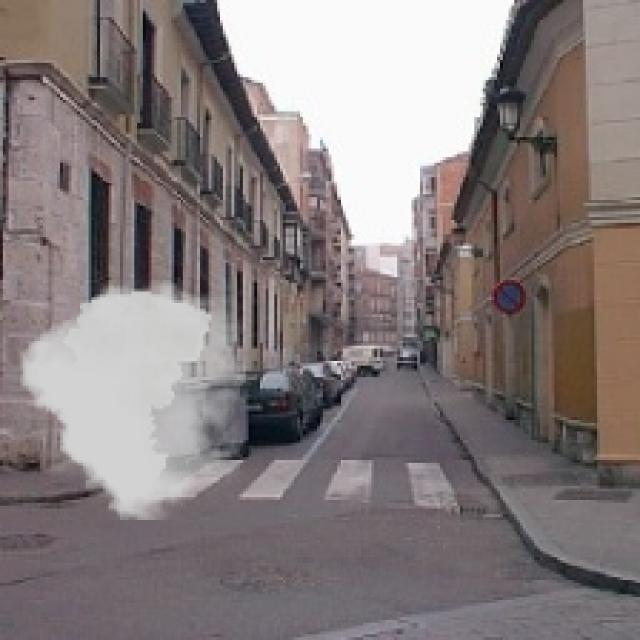Smoke: (20, 280, 246, 520)
